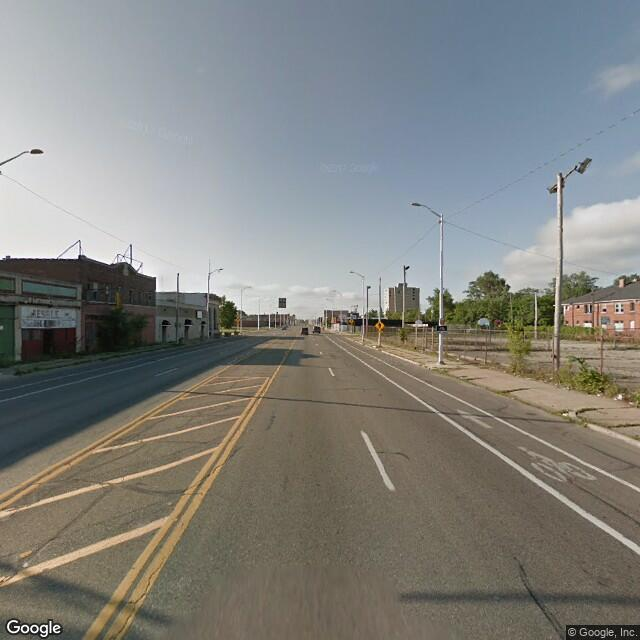litter: (563, 409, 580, 421), (618, 392, 622, 401)
